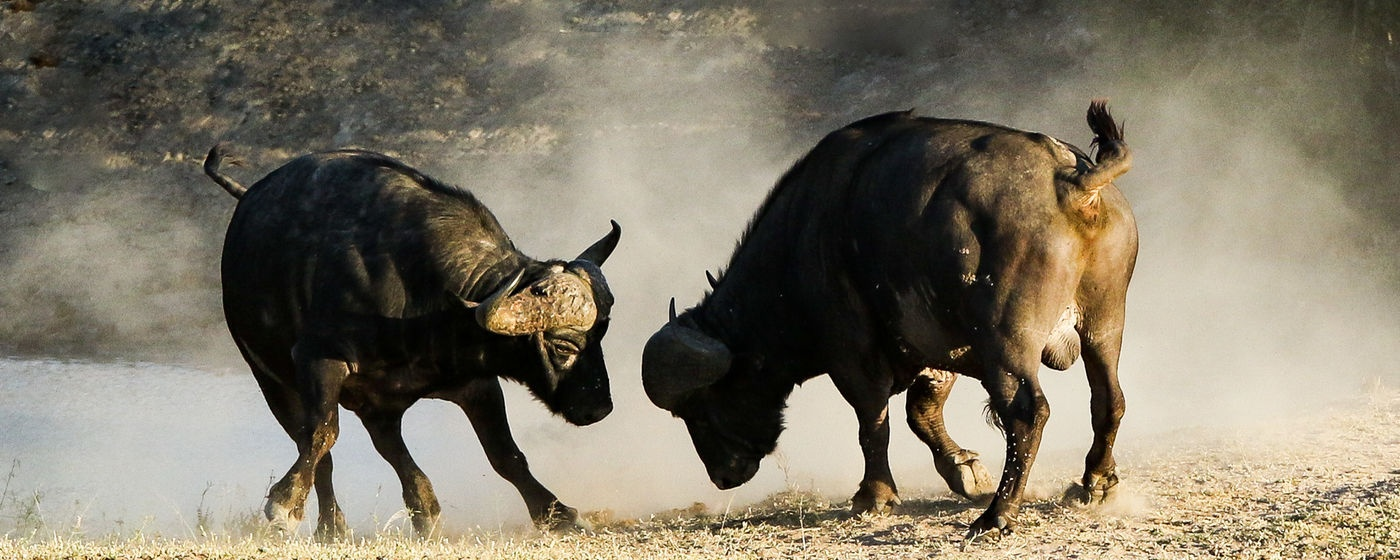buffalo: (642, 102, 1140, 542), (201, 139, 622, 540)
